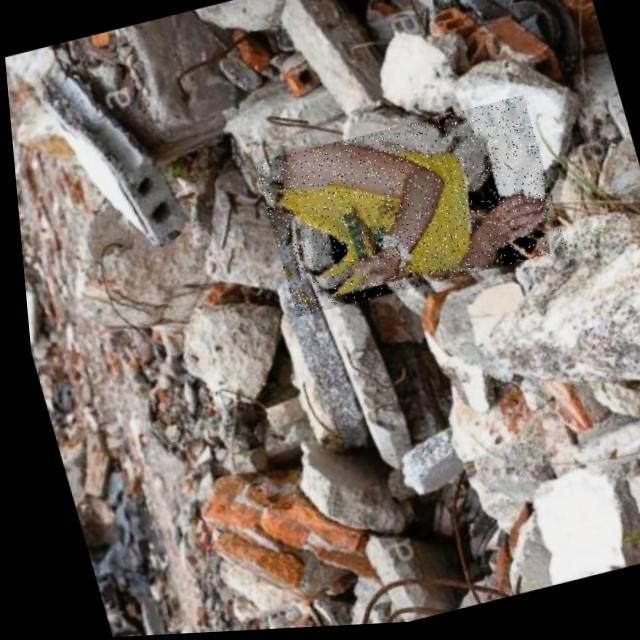Person in Rubble: (246, 98, 566, 321)
